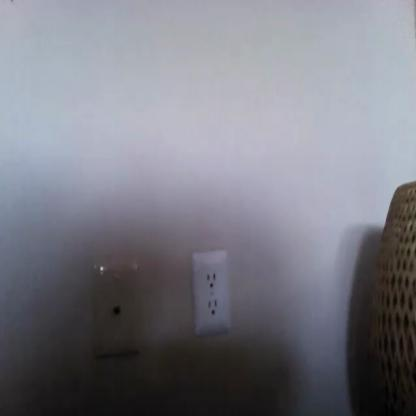OUTLET: (194, 250, 230, 338)
